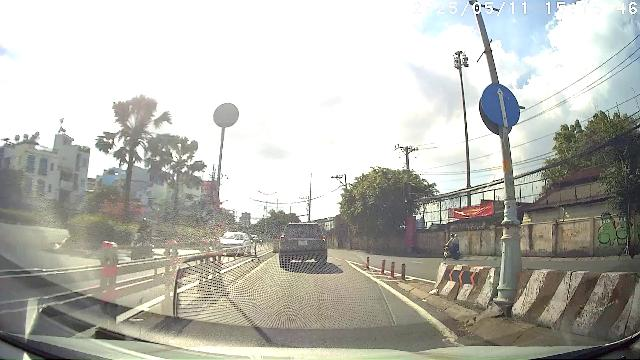301a-cac-xe-chi-duoc-di-thang: (481, 84, 520, 128)
